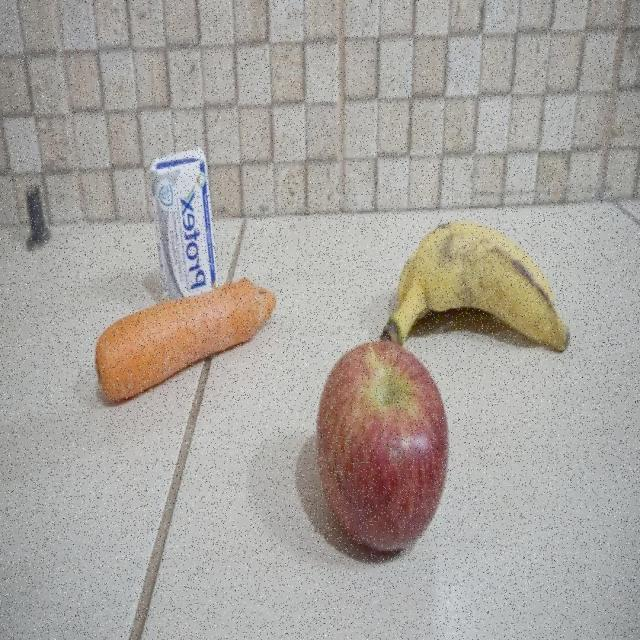Apple: (317, 340, 443, 552)
Banana: (381, 218, 576, 340)
Carrot: (88, 282, 278, 407)
Soap: (150, 144, 219, 274)
